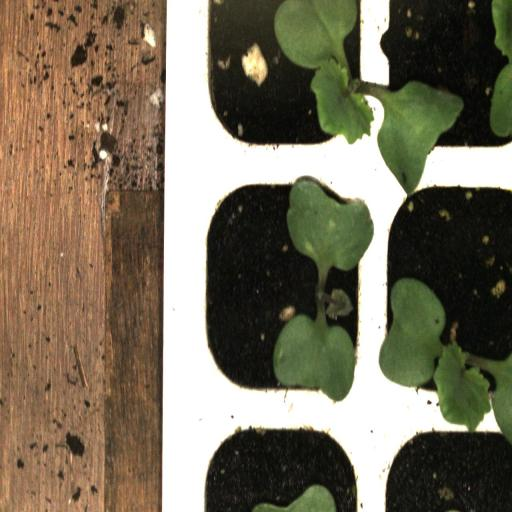Folha: (286, 178, 374, 278), (273, 308, 356, 402)
Germinacao: (190, 168, 372, 410), (373, 171, 512, 423), (190, 1, 376, 173)
